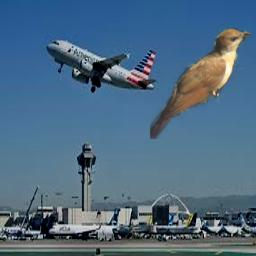Cuckoo: (150, 28, 251, 139)
